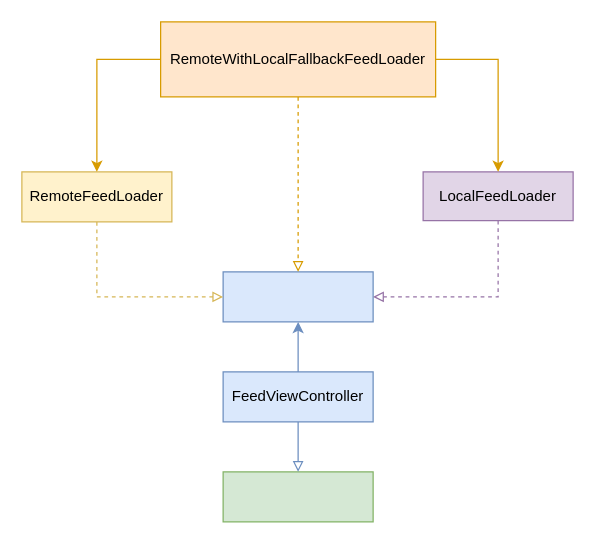
Image size: 595x544. Some labels were removed from this diagram. The box of each missing label's shape, as (x1, y1, x2, y2) in pixels:
<Feed Loader>: (222, 271, 373, 322)
UIViewController: (222, 471, 373, 522)
